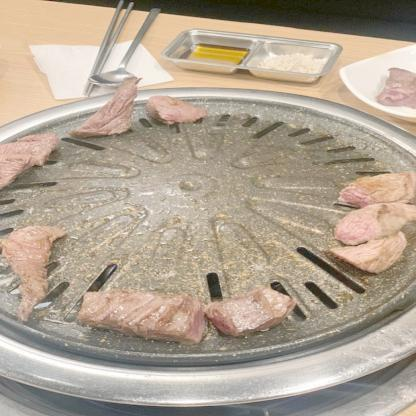Carne: (58, 287, 214, 337), (1, 221, 64, 314), (202, 285, 295, 336), (80, 76, 144, 138), (332, 202, 416, 246), (336, 167, 415, 210), (1, 125, 53, 189), (336, 229, 410, 270)
